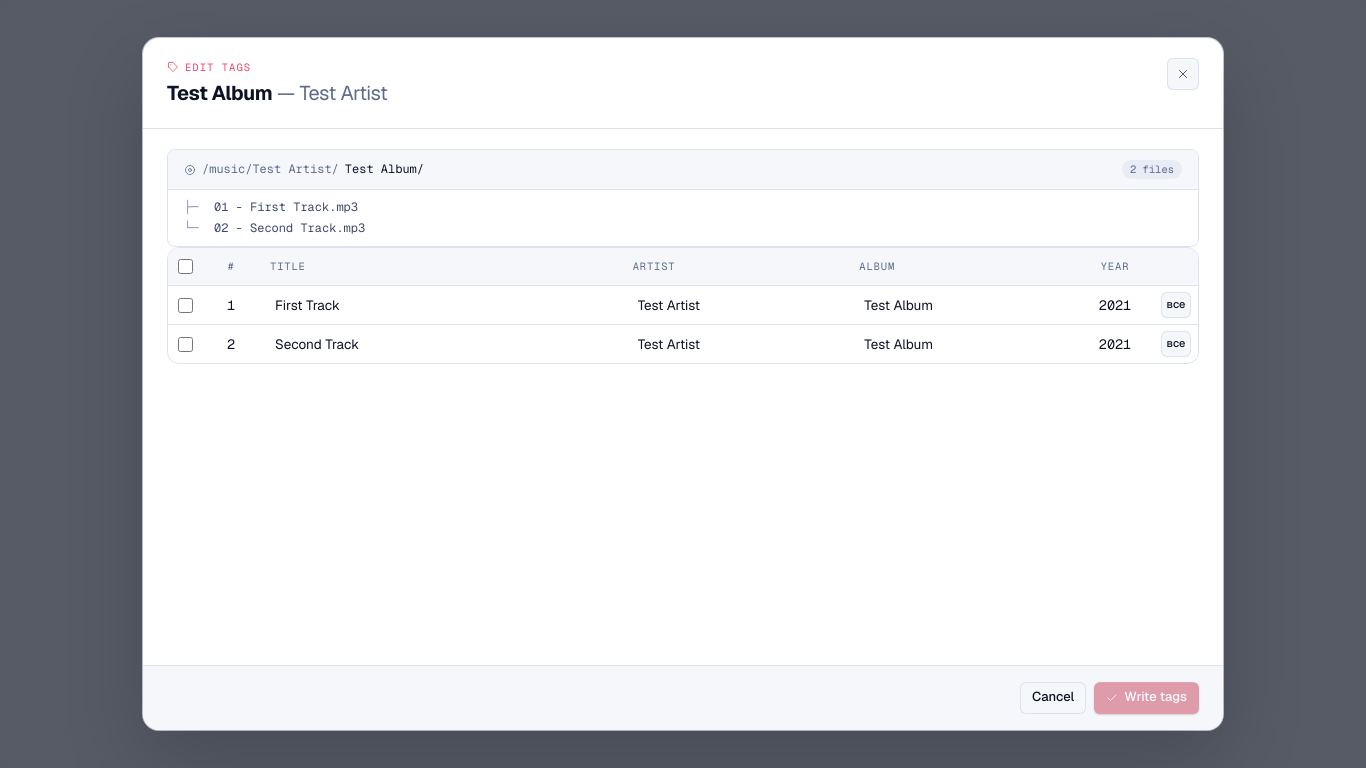
it: TagEditorModal › shows flash warning when backend returns warnings
Replace the text in the 2nd field showing "First Track" with "Changed" at (441, 305), box [266,290,617,320]
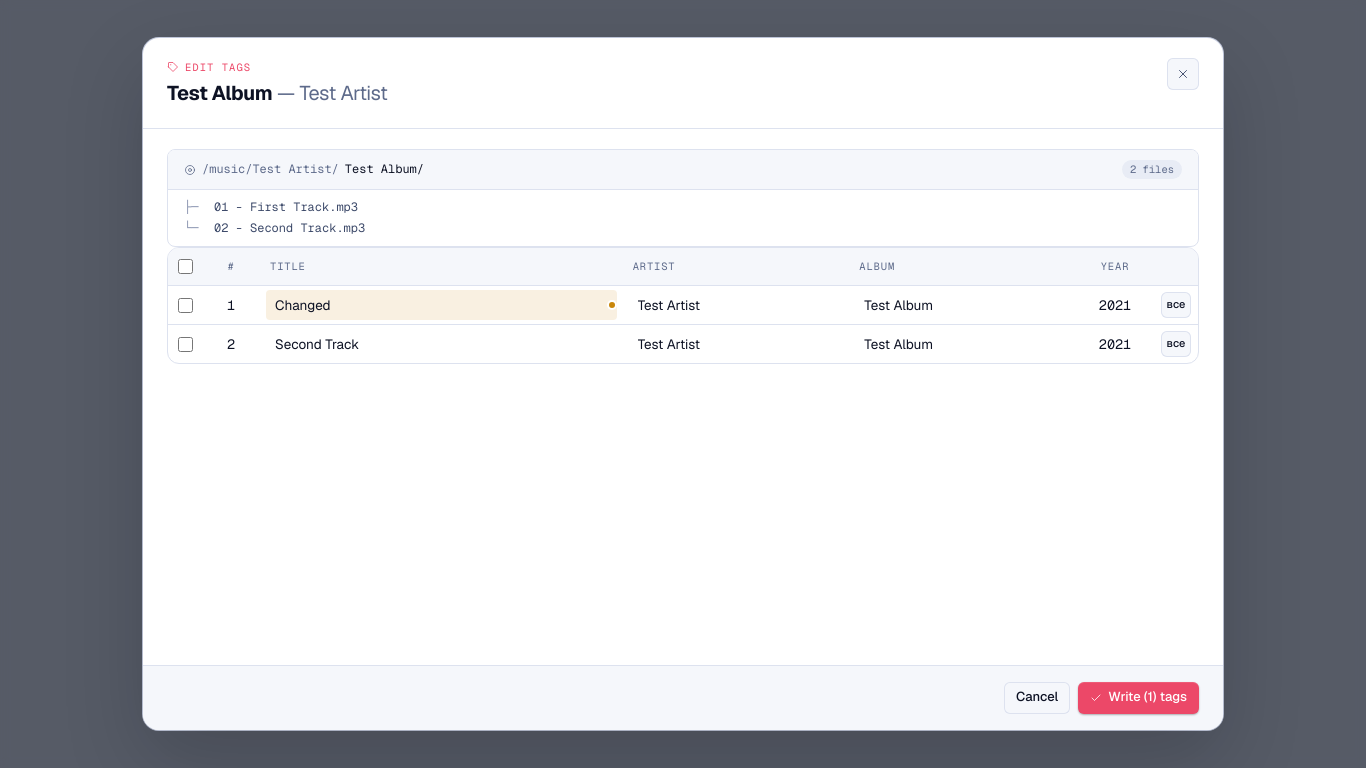
Click the button "Write (1) tags" at (1139, 698), box [1078,682,1199,714]
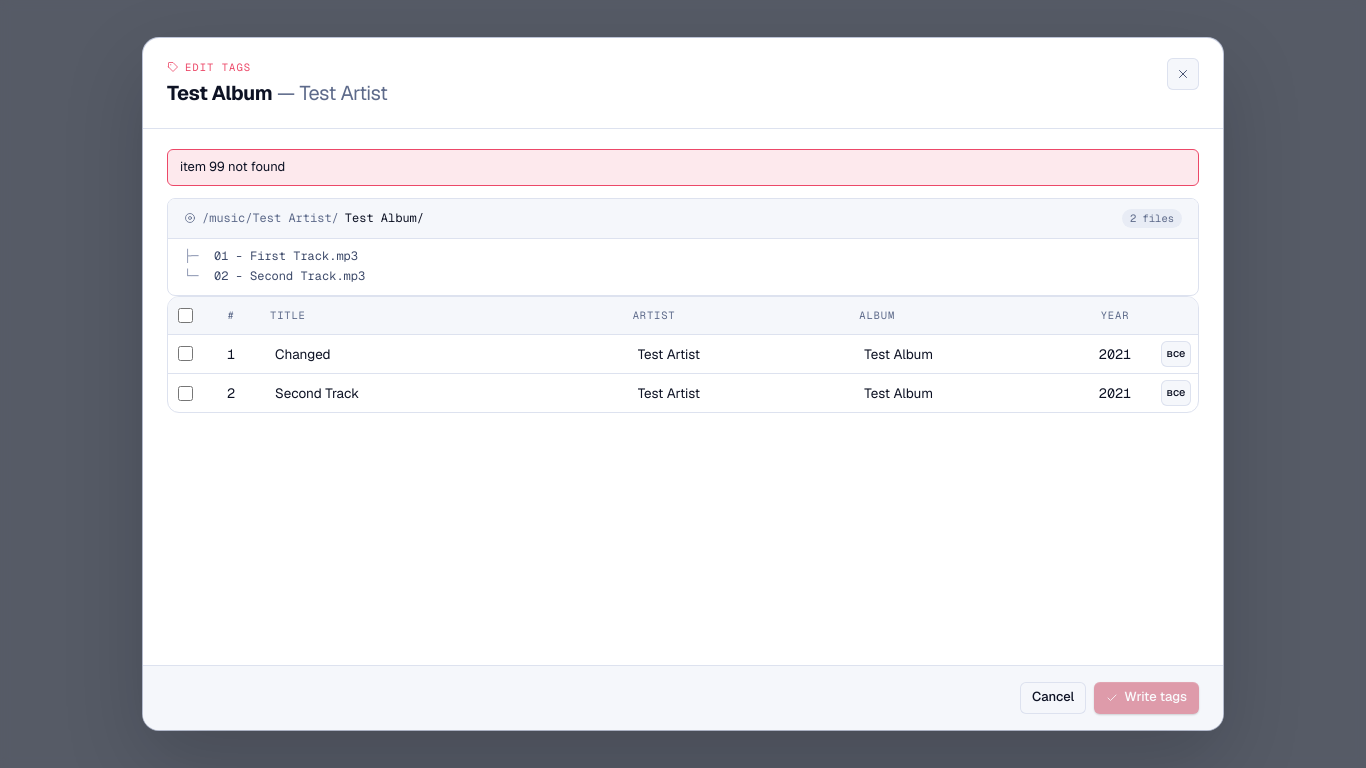
Now the text "item 99 not found" is shown, box [167,149,1199,186]
